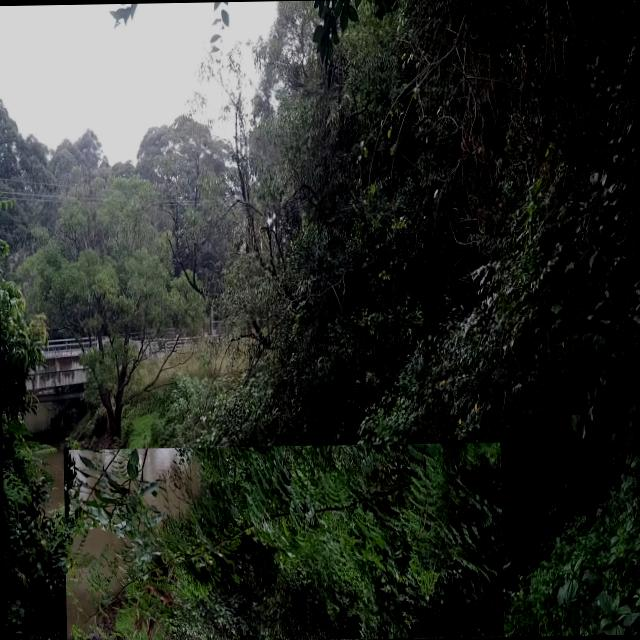Mysore-Thorn-Weed: (63, 442, 503, 640)
